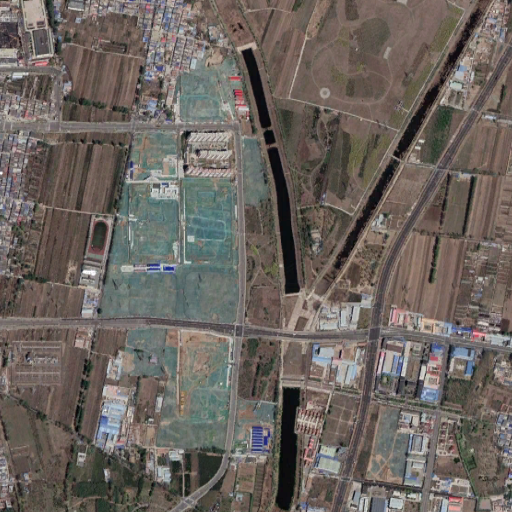cw: (97, 130, 268, 321), (123, 325, 278, 456), (176, 55, 246, 120), (363, 402, 408, 485)
